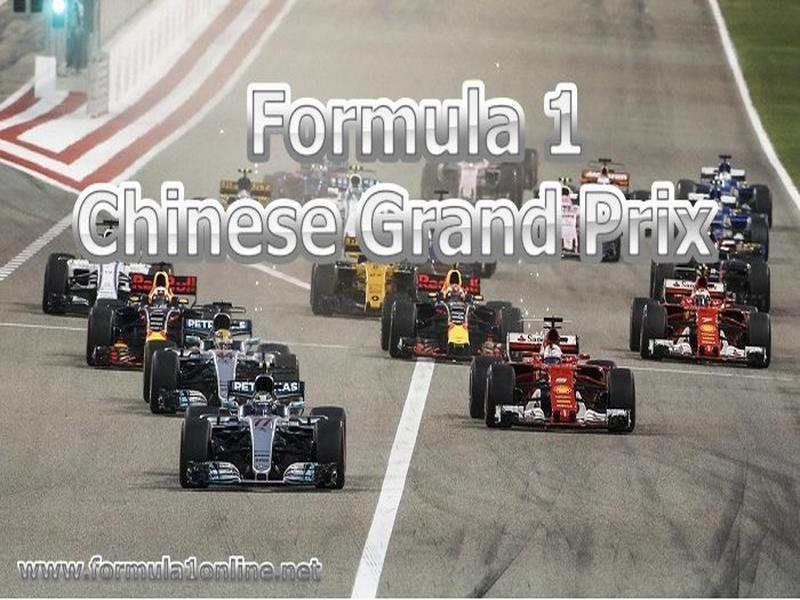f1: (178, 358, 398, 508), (472, 327, 690, 451), (83, 251, 247, 371), (144, 309, 310, 411), (632, 271, 790, 366), (391, 255, 532, 356)
